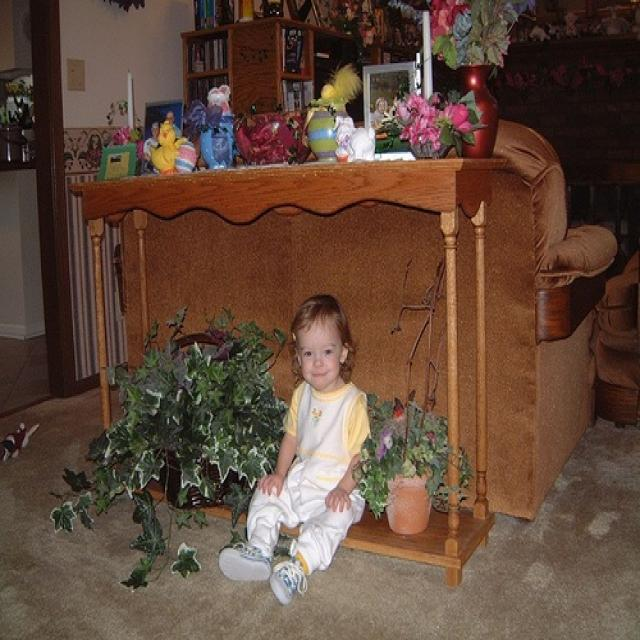pottedplant: (52, 319, 286, 592), (358, 386, 470, 548), (392, 86, 480, 160)
sofa: (115, 140, 612, 524)
